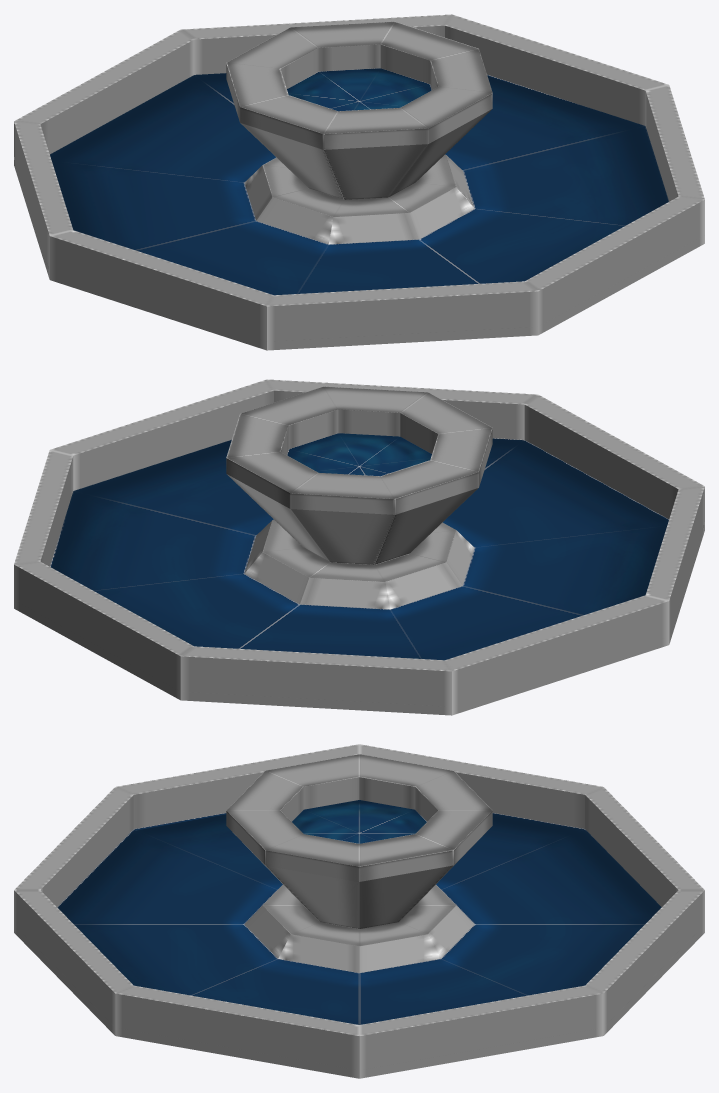
File: Assets_Export_03.fbx
3 renders of one model, top to bottom at view 1: azimuth 30°, elevation 25°; view 2: azimuth 150°, elevation 25°; view 3: azimuth 270°, elevation 25°, orthographic. The views are drawn at different scales.
Visible parts, largest first — view 1: Fountain1; view 2: Fountain1; view 3: Fountain1.
Boxes of the visible parts, x1,y1,x2,y2 form: Fountain1: (14,14,704,350); Fountain1: (14,379,704,715); Fountain1: (14,744,704,1078).
Bounding box in the file's own units: 16.49 × 3.22 × 16.49.
